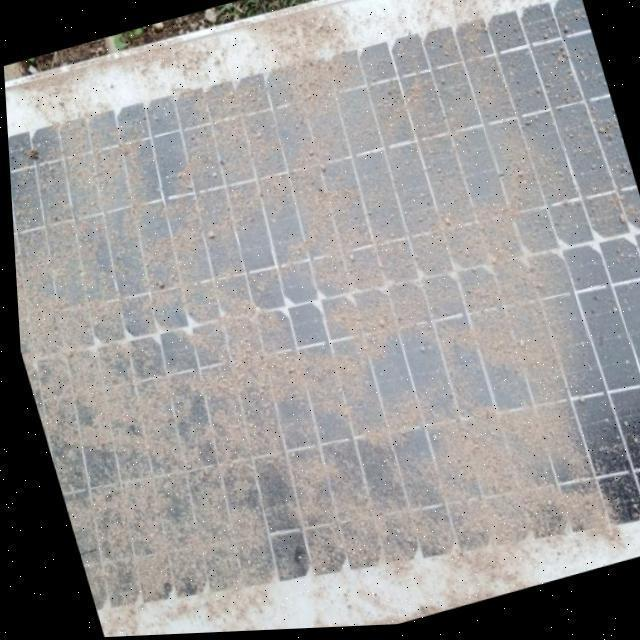Surface Contaminant: (4, 0, 601, 638)
